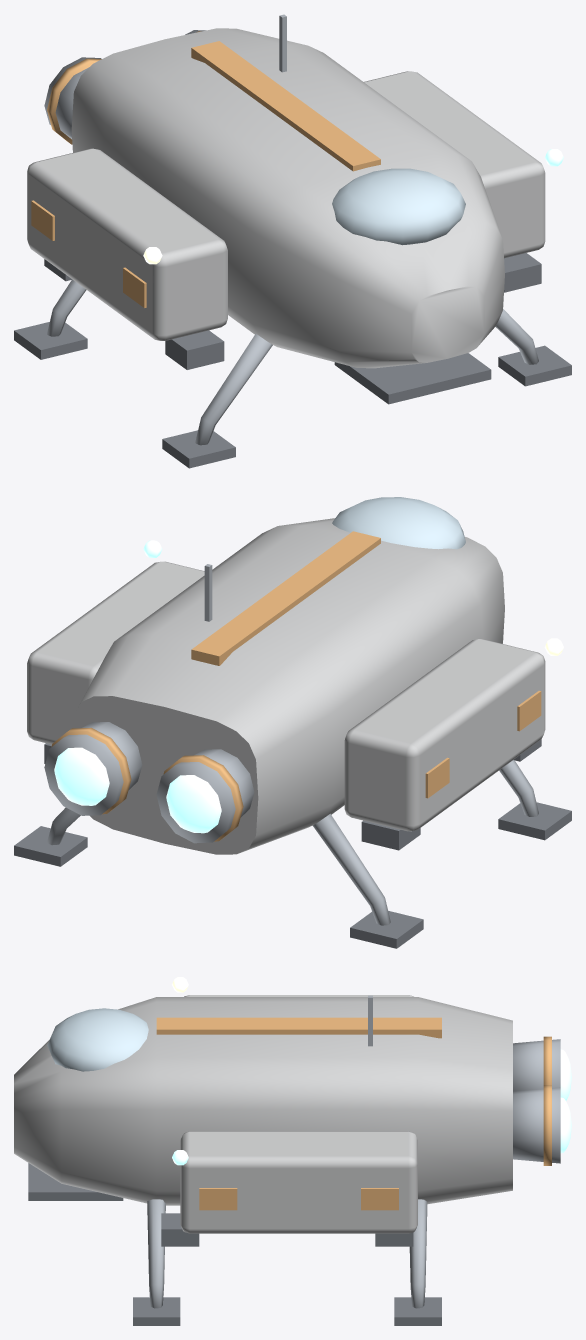
The model's file is h_transport.glb.
3 renders of one model, top to bottom at view 1: azimuth 30°, elevation 25°; view 2: azimuth 150°, elevation 25°; view 3: azimuth 270°, elevation 25°, orthographic. The views are drawn at different scales.
Visible parts, largest first — view 1: hull, metal, canopy, paint; view 2: hull, metal, paint, glow, canopy; view 3: hull, metal, paint, canopy, glow.
Boxes of the visible parts, x1,y1,x2,y2 form: hull: [27, 28, 545, 368]; metal: [14, 14, 571, 468]; canopy: [332, 168, 465, 245]; paint: [31, 31, 380, 307]; hull: [27, 518, 545, 854]; metal: [14, 564, 571, 948]; paint: [51, 531, 541, 841]; glow: [54, 540, 563, 833]; canopy: [332, 497, 465, 549]; hull: [14, 995, 512, 1233]; metal: [28, 995, 560, 1325]; paint: [156, 1017, 551, 1210]; canopy: [47, 1008, 148, 1071]; glow: [172, 977, 571, 1165].
Size of what is drawn, in the model's own units: 0.8912 by 0.6137 by 1.17.
